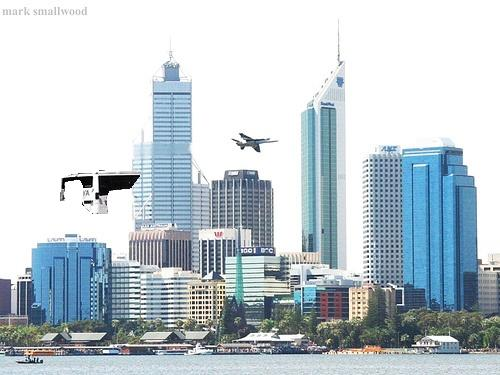tampered: (61, 171, 142, 214)
